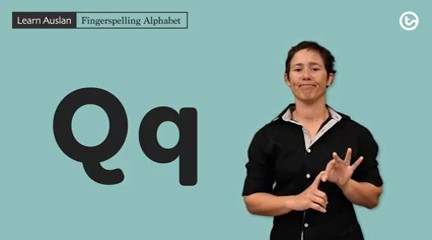Q: (285, 144, 371, 222)
